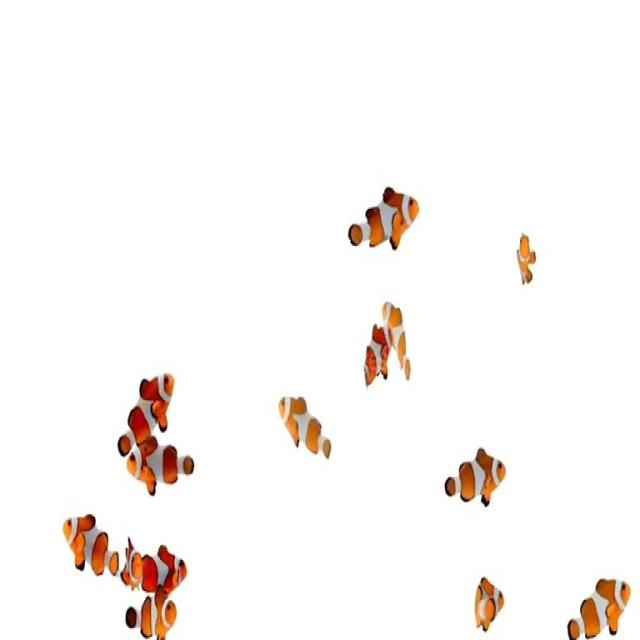fish: (339, 180, 423, 262), (276, 384, 340, 473), (439, 440, 509, 520), (111, 372, 177, 454), (563, 563, 631, 640), (62, 493, 118, 579), (123, 436, 199, 496), (379, 290, 422, 384), (360, 307, 396, 407), (463, 571, 512, 635), (135, 546, 197, 594), (123, 596, 190, 638), (513, 228, 540, 293), (121, 526, 142, 592)
